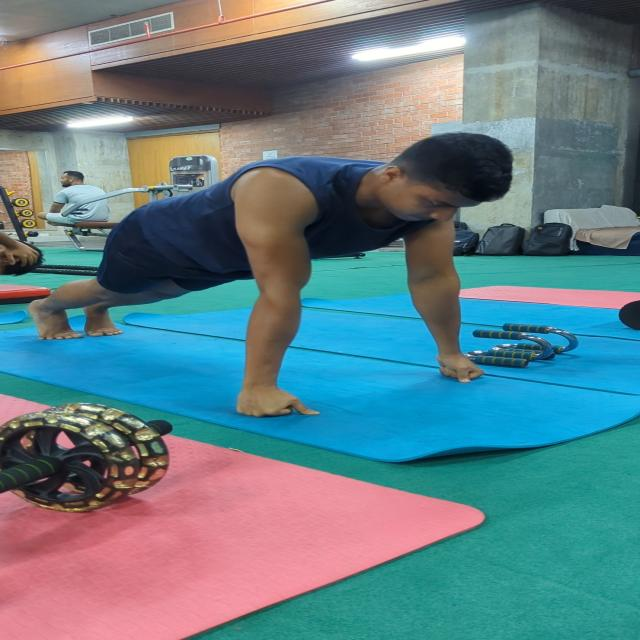Normal_PushUps: (29, 130, 518, 425)
